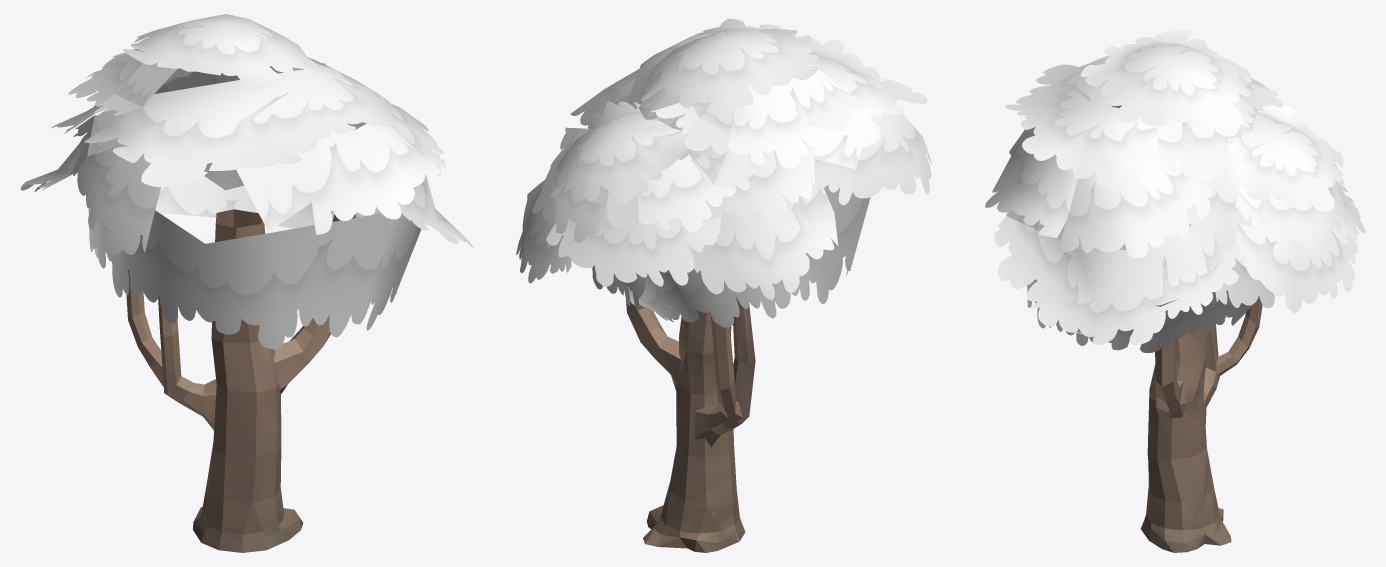
Rendered from TreeOakMedium_a_farm.fbx.
The picture shows the model from 3 angles, left to right: view 1: azimuth 30°, elevation 25°; view 2: azimuth 150°, elevation 25°; view 3: azimuth 270°, elevation 25°; orthographic projection. The views are drawn at different scales.
Parts seen in each view (by area): view 1: TreeOakCanopyMedium1a, TreeOakTrunkMediumA, TreeOakStumpMediumA; view 2: TreeOakCanopyMedium1a, TreeOakTrunkMediumA, TreeOakStumpMediumA; view 3: TreeOakCanopyMedium1a, TreeOakTrunkMediumA, TreeOakStumpMediumA.
Boxes of the visible parts, x1,y1,x2,y2 form: TreeOakCanopyMedium1a: (20,14,472,349); TreeOakTrunkMediumA: (126,209,355,534); TreeOakStumpMediumA: (192,507,303,552); TreeOakCanopyMedium1a: (516,18,931,327); TreeOakTrunkMediumA: (626,295,755,533); TreeOakStumpMediumA: (643,505,745,552); TreeOakCanopyMedium1a: (985,29,1365,352); TreeOakTrunkMediumA: (1146,299,1262,530); TreeOakStumpMediumA: (1141,508,1231,552).
Size of what is drawn, in the model's own units: 6.25 by 8.35 by 6.5.
